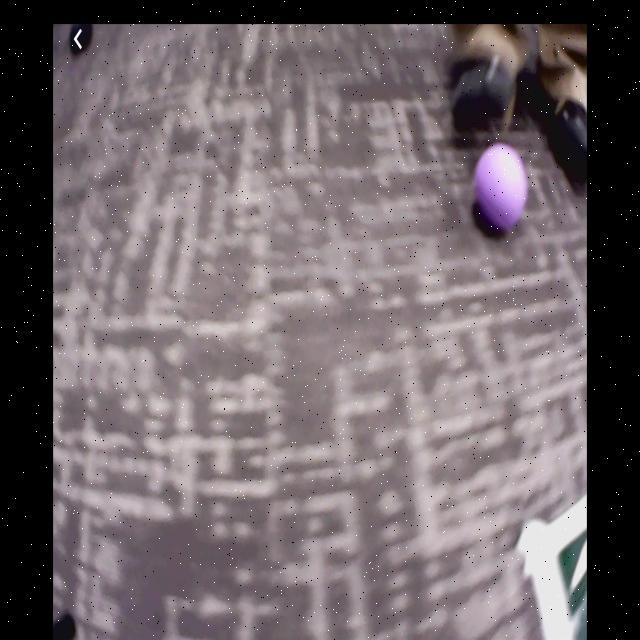ball: (476, 145, 527, 226)
